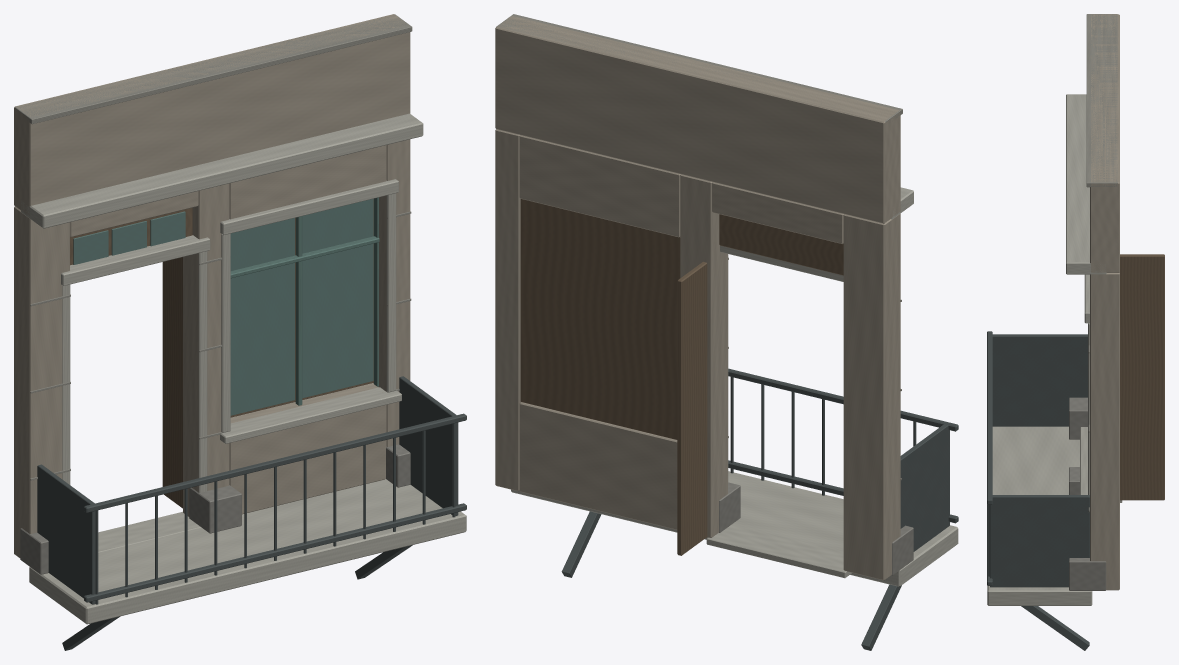
Rendered from F11_BalconyFront_visual.glb.
3 renders of one model, left to right at view 1: azimuth 30°, elevation 25°; view 2: azimuth 150°, elevation 25°; view 3: azimuth 270°, elevation 25°, orthographic. The views are drawn at different scales.
Visible parts, largest first — view 1: F11_BalconyFront__VIS; view 2: F11_BalconyFront__VIS; view 3: F11_BalconyFront__VIS.
Part boxes in pixels (x1,y1,x2,y2): F11_BalconyFront__VIS: (14,14,466,650); F11_BalconyFront__VIS: (495,14,958,650); F11_BalconyFront__VIS: (987,14,1164,650).
Bounding box in the file's own units: 16.08 × 21.62 × 7.11.
Materials: 1 (1 with a texture image).
